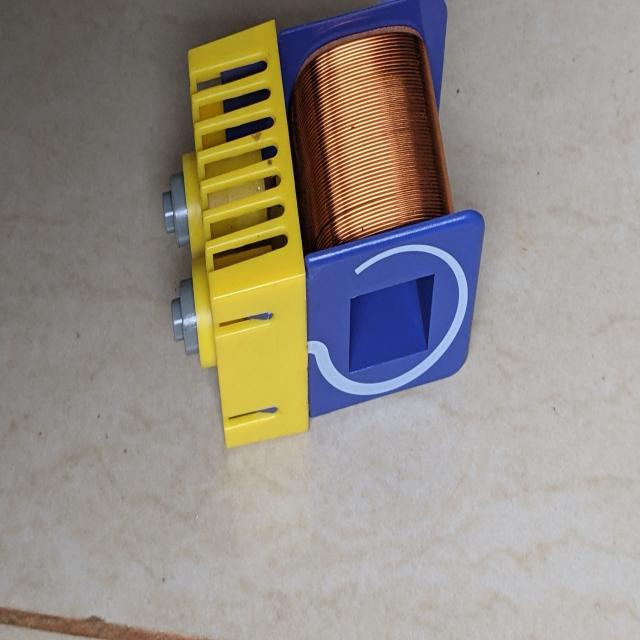Solenoid: (149, 30, 495, 452)
